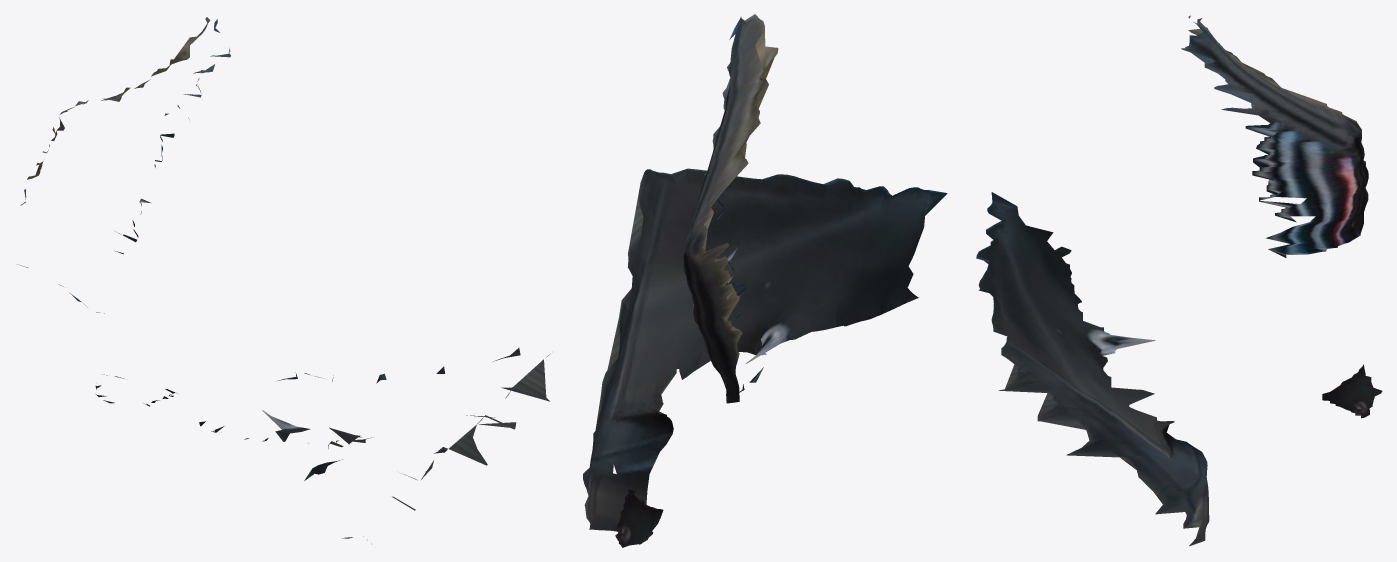
File: observed-surface.glb
The picture shows the model from 3 angles, left to right: view 1: azimuth 30°, elevation 25°; view 2: azimuth 150°, elevation 25°; view 3: azimuth 270°, elevation 25°; orthographic projection. The views are drawn at different scales.
Parts seen in each view (by area): view 1: geometry_0; view 2: geometry_0; view 3: geometry_0.
Boxes of the visible parts, x1,y1,x2,y2 form: geometry_0: [18, 17, 550, 543]; geometry_0: [583, 14, 947, 547]; geometry_0: [976, 15, 1382, 546].
Size of the model in its own units: 0.3794 by 0.6439 by 0.5087.
Materials: 1 (1 with a texture image).
